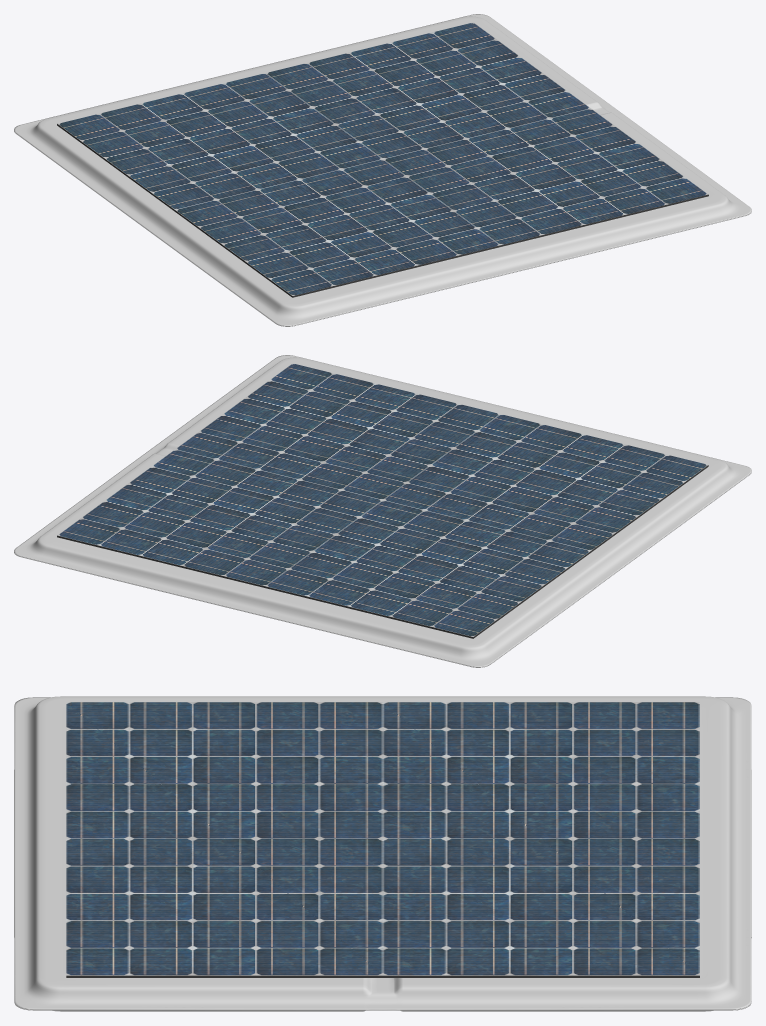
Rendered from CompletePanel_smaller.glb.
The picture shows the model from 3 angles, top to bottom: view 1: azimuth 30°, elevation 25°; view 2: azimuth 150°, elevation 25°; view 3: azimuth 270°, elevation 25°; orthographic projection. The views are drawn at different scales.
Visible parts, largest first — view 1: SolarPanel, Top, Bottom; view 2: SolarPanel, Top, Bottom; view 3: SolarPanel, Top, Bottom.
Boxes of the visible parts, <box> form: SolarPanel: <box>57,22,708,297</box>; Top: <box>14,14,751,326</box>; Bottom: <box>14,53,751,326</box>; SolarPanel: <box>57,363,708,638</box>; Top: <box>14,355,751,667</box>; Bottom: <box>14,394,751,667</box>; SolarPanel: <box>66,702,699,977</box>; Top: <box>14,696,751,1009</box>; Bottom: <box>14,761,751,1011</box>.
Bounding box in the file's own units: 1.94 × 0.0849 × 1.94.
4 materials, 1 textured.
